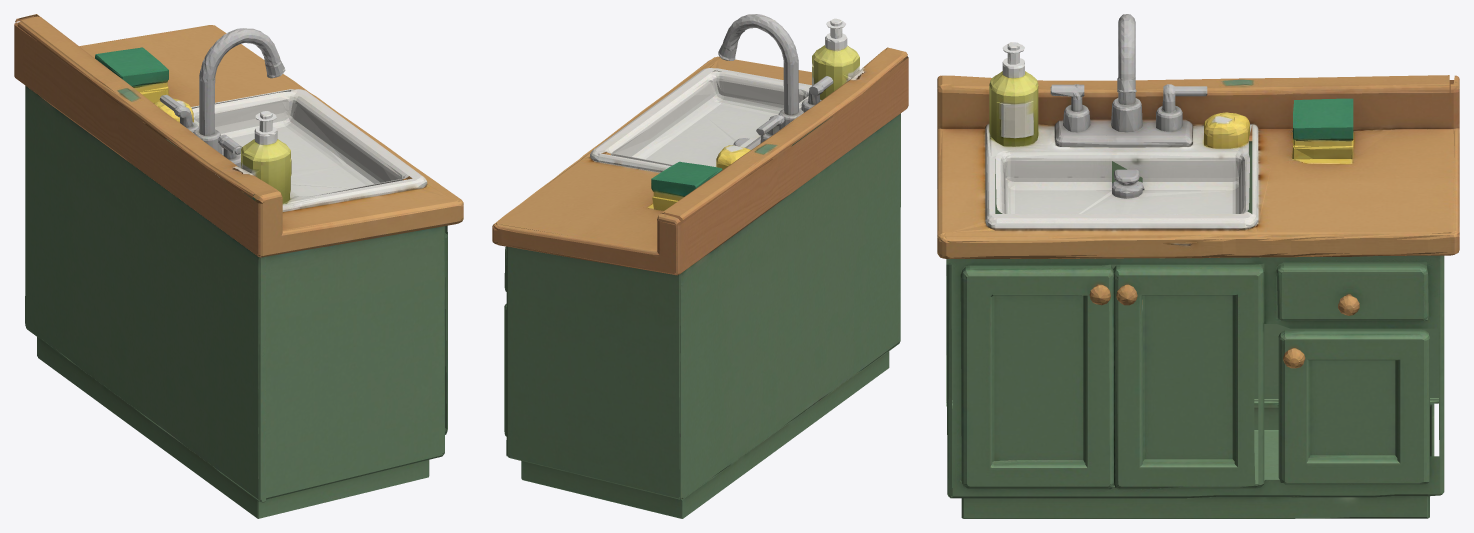
Rendered from kitchensink.glb.
3 renders of one model, left to right at view 1: azimuth 30°, elevation 25°; view 2: azimuth 150°, elevation 25°; view 3: azimuth 270°, elevation 25°, orthographic. The views are drawn at different scales.
Parts seen in each view (by area): view 1: tripo_node_309b7f36-590d-4b17-b2ea-caa153a0b220; view 2: tripo_node_309b7f36-590d-4b17-b2ea-caa153a0b220; view 3: tripo_node_309b7f36-590d-4b17-b2ea-caa153a0b220.
Part boxes in pixels (x1,y1,x2,y2): tripo_node_309b7f36-590d-4b17-b2ea-caa153a0b220: (14,14,463,518); tripo_node_309b7f36-590d-4b17-b2ea-caa153a0b220: (492,14,908,518); tripo_node_309b7f36-590d-4b17-b2ea-caa153a0b220: (937,14,1459,518).
Bounding box in the file's own units: 0.5246 × 0.9356 × 1.
1 material, 1 textured.
